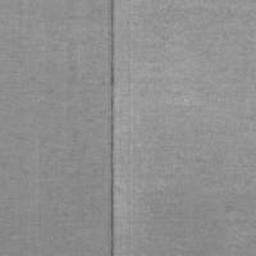Welding line: (109, 0, 116, 256)
